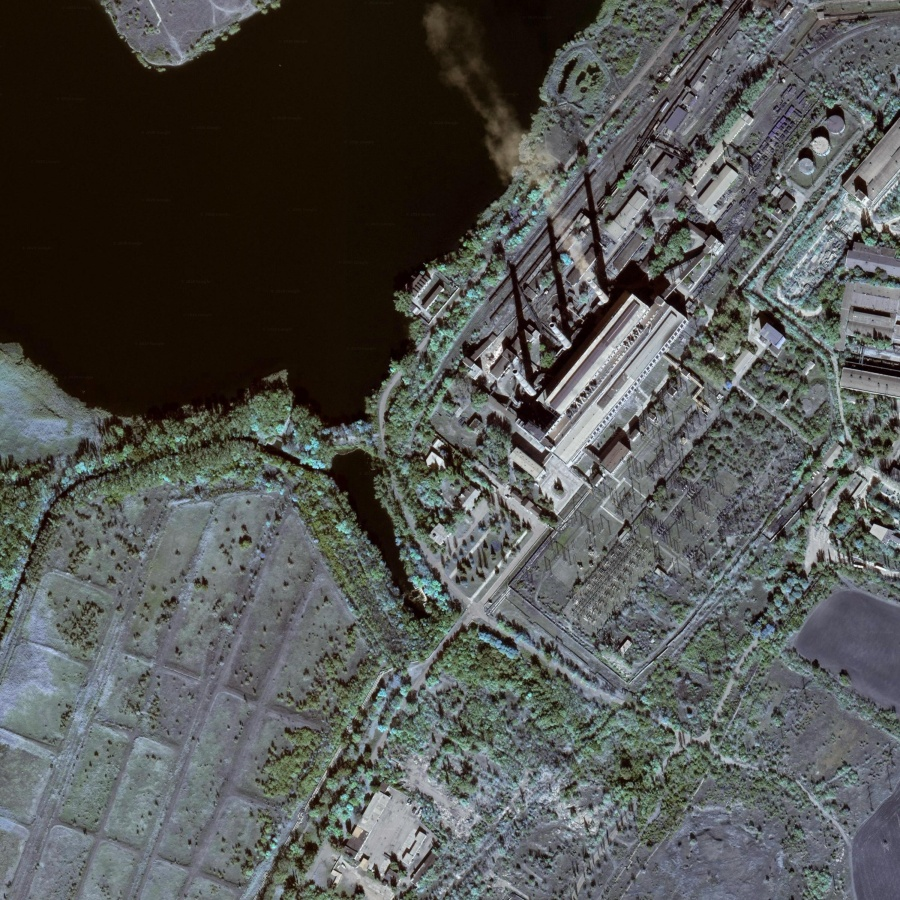PowerPlant: (472, 92, 837, 448)
